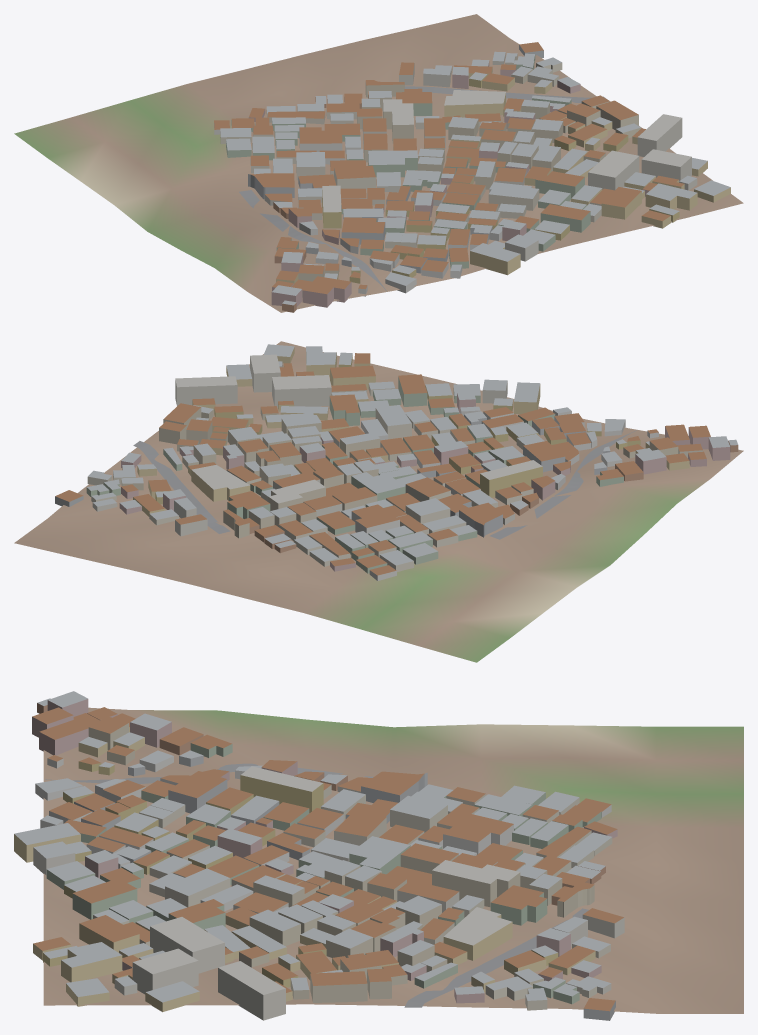
The picture shows the model from 3 angles, top to bottom: view 1: azimuth 30°, elevation 25°; view 2: azimuth 150°, elevation 25°; view 3: azimuth 270°, elevation 25°; orthographic projection. The views are drawn at different scales.
Visible parts, largest first — view 1: Lo; view 2: Lo; view 3: Lo.
Boxes of the visible parts, left/top/right/bottom form: Lo: left=14, top=14, right=743, bottom=312; Lo: left=14, top=341, right=743, bottom=662; Lo: left=14, top=691, right=743, bottom=1020.
Size of the model in its own units: 268 by 17.03 by 267.
